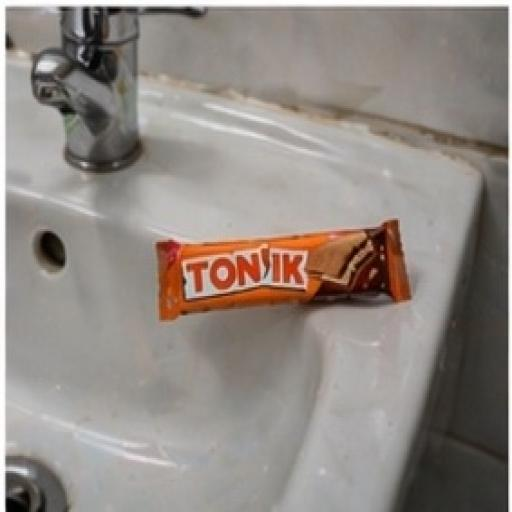tonik: (62, 114, 427, 388)
